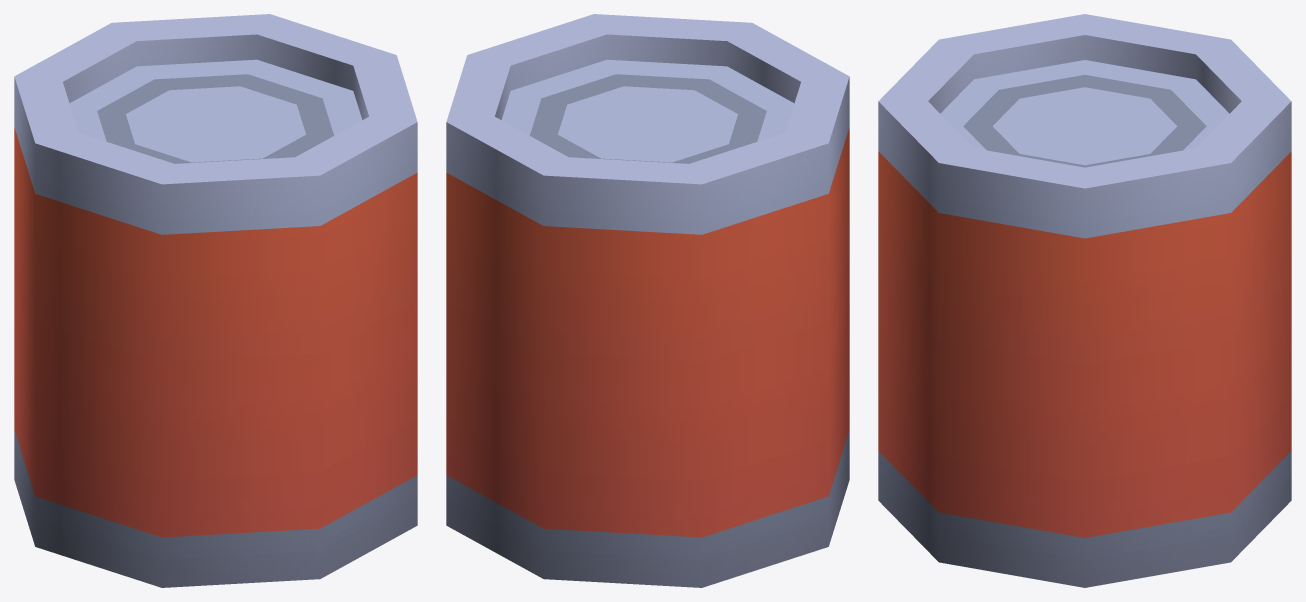
File: can.glb
3 views of the same model, side by side, from view 1: azimuth 30°, elevation 25°; view 2: azimuth 150°, elevation 25°; view 3: azimuth 270°, elevation 25° (orthographic).
Visible parts, largest first — view 1: can; view 2: can; view 3: can.
Part boxes in pixels (left/top/right/bottom): can: left=14, top=14, right=417, bottom=587; can: left=446, top=14, right=849, bottom=587; can: left=878, top=14, right=1291, bottom=587.
Bounding box in the file's own units: 0.3 × 0.32 × 0.3.
Materials: 1 (1 with a texture image).
